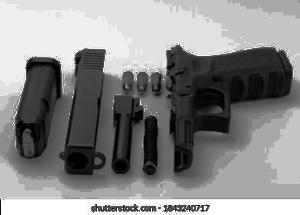handgun: (165, 36, 293, 177), (59, 39, 113, 182), (16, 51, 56, 164)
